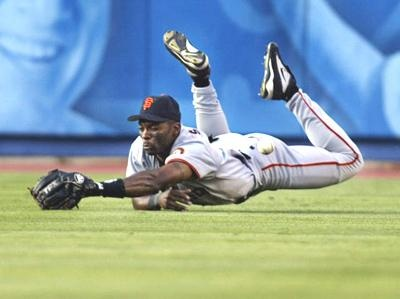falling: (12, 14, 388, 215)
